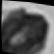correct: (0, 3, 51, 54)
